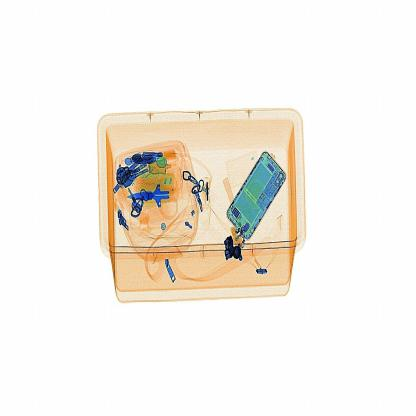gun: (128, 174, 192, 231)
